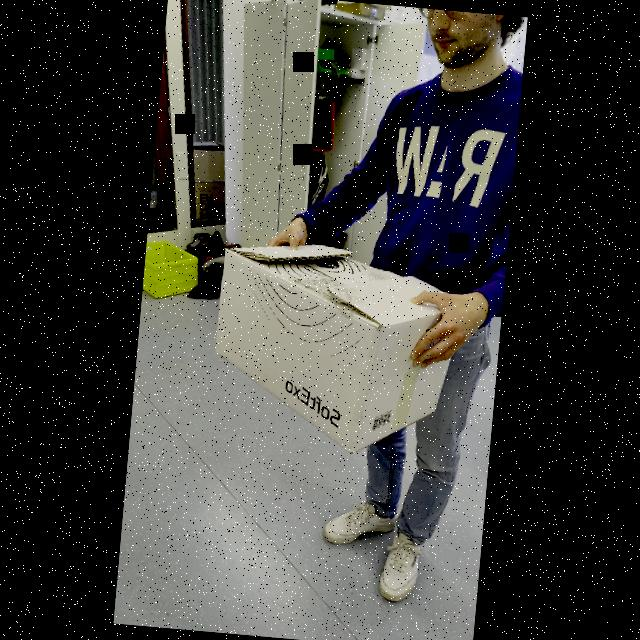cardboard_box: (202, 230, 472, 460), (142, 225, 202, 301)
